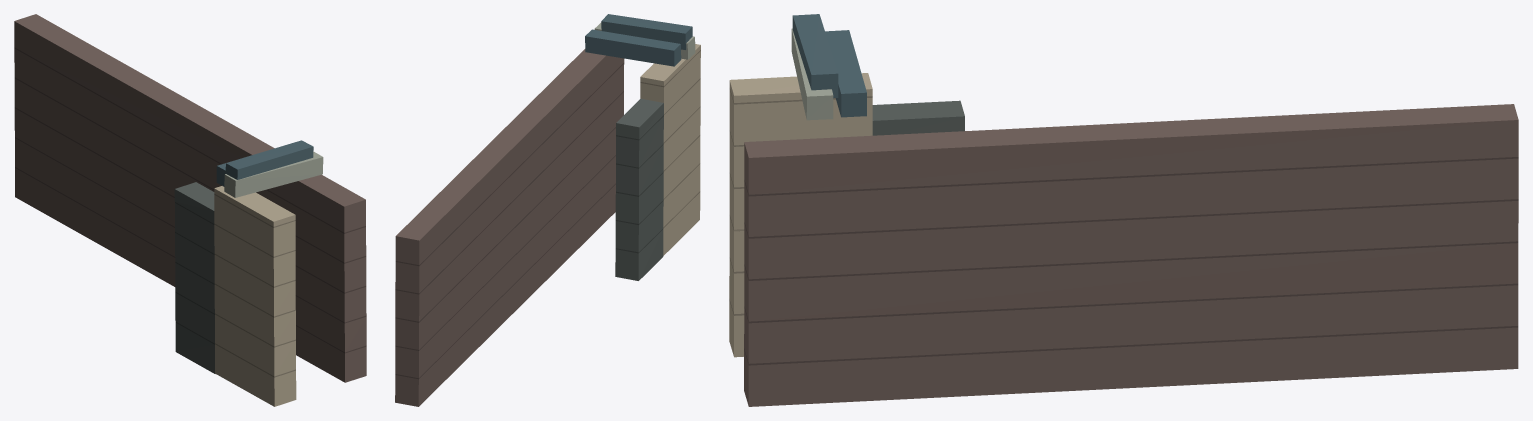
Rendered from terminal-29---122_-18.glb.
3 views of the same model, side by side, from view 1: azimuth 30°, elevation 25°; view 2: azimuth 150°, elevation 25°; view 3: azimuth 270°, elevation 25° (orthographic). The views are drawn at different scales.
Parts seen in each view (by area): view 1: measured-industrial; view 2: measured-industrial; view 3: measured-industrial.
Part boxes in pixels (x1,y1,x2,y2): measured-industrial: (14,14,366,406); measured-industrial: (395,14,700,406); measured-industrial: (729,14,1518,406).
Bounding box in the file's own units: 12.37 × 22.57 × 50.91.
